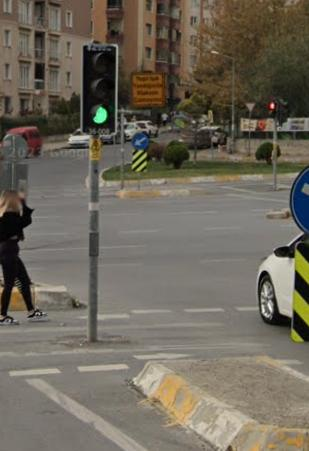greenlight: (85, 44, 120, 132)
